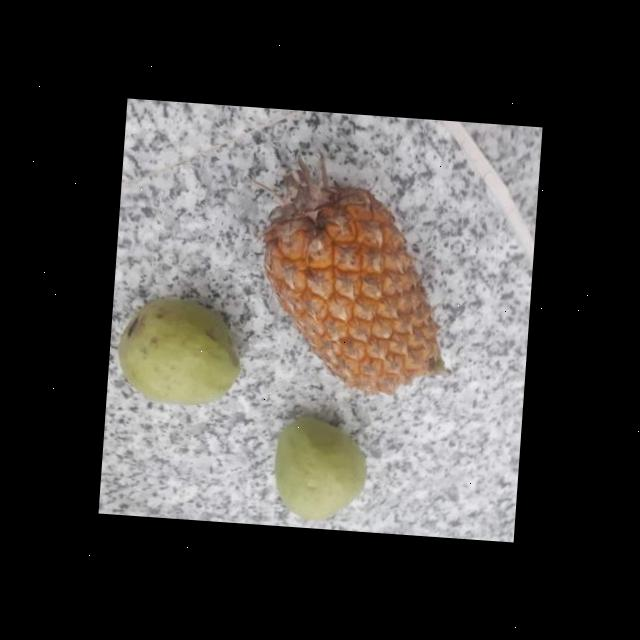guava: (117, 300, 249, 406), (270, 414, 371, 519)
pineapple: (253, 183, 458, 407)
